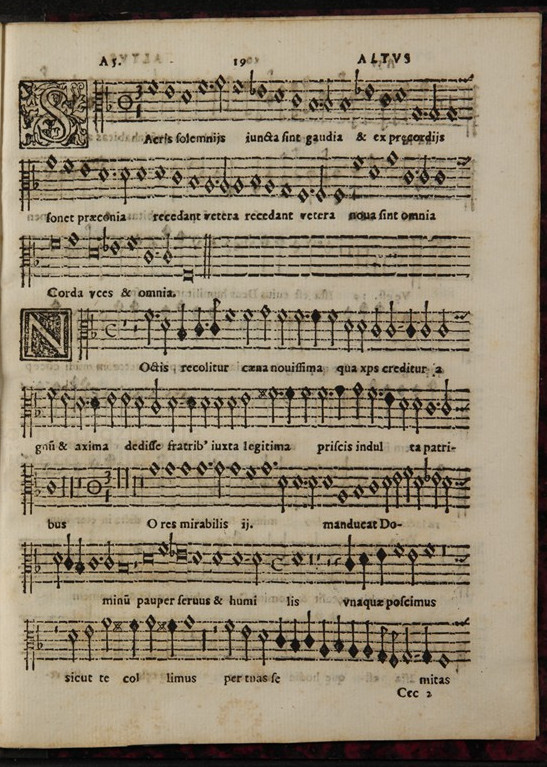barline: (202, 228, 213, 286)
breve_11: (175, 262, 198, 284)
breve_4: (45, 231, 63, 253)
breve_6: (83, 243, 103, 263)
c clef_7: (14, 230, 32, 272)
flat_5: (97, 224, 111, 255)
flat_8: (28, 235, 40, 272)
minim_7: (160, 230, 175, 271)
point: (149, 245, 161, 259)
semibreve_3: (65, 228, 80, 252)
semibreve_4: (124, 229, 139, 255)
semibreve_5: (109, 235, 122, 260)
semibreve_7: (140, 243, 155, 269)
